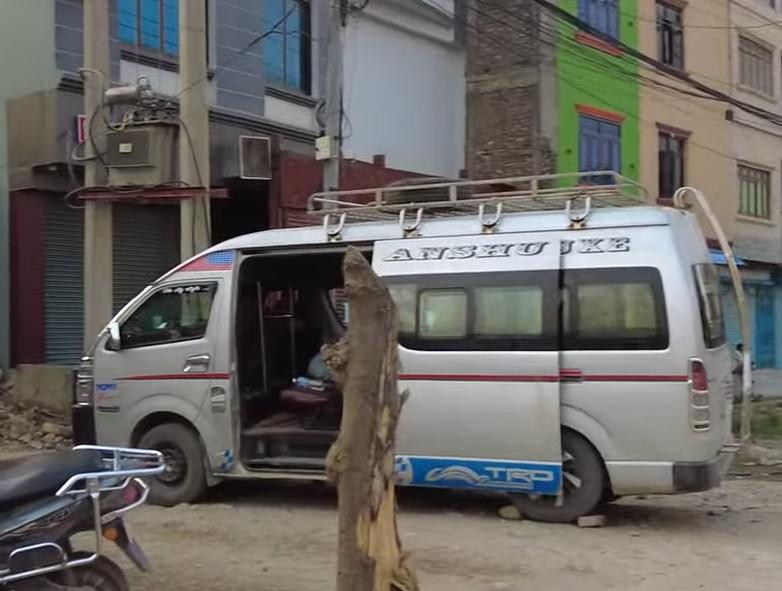micro_bus: (62, 187, 743, 524)
